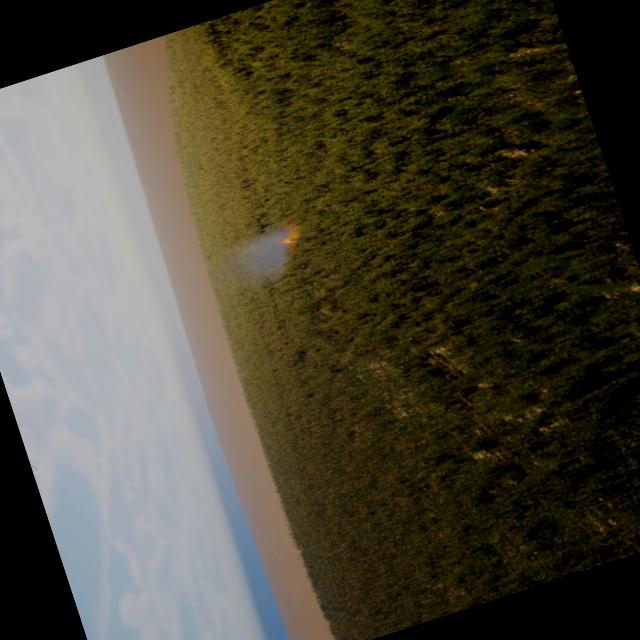fire: (274, 224, 302, 249)
smoke: (212, 220, 308, 296)
